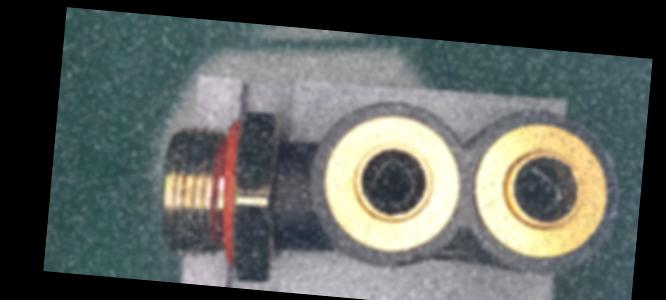bump: (392, 251, 429, 271)
off-centered: (363, 155, 421, 212), (508, 165, 569, 218)
white mark: (283, 170, 302, 187)
